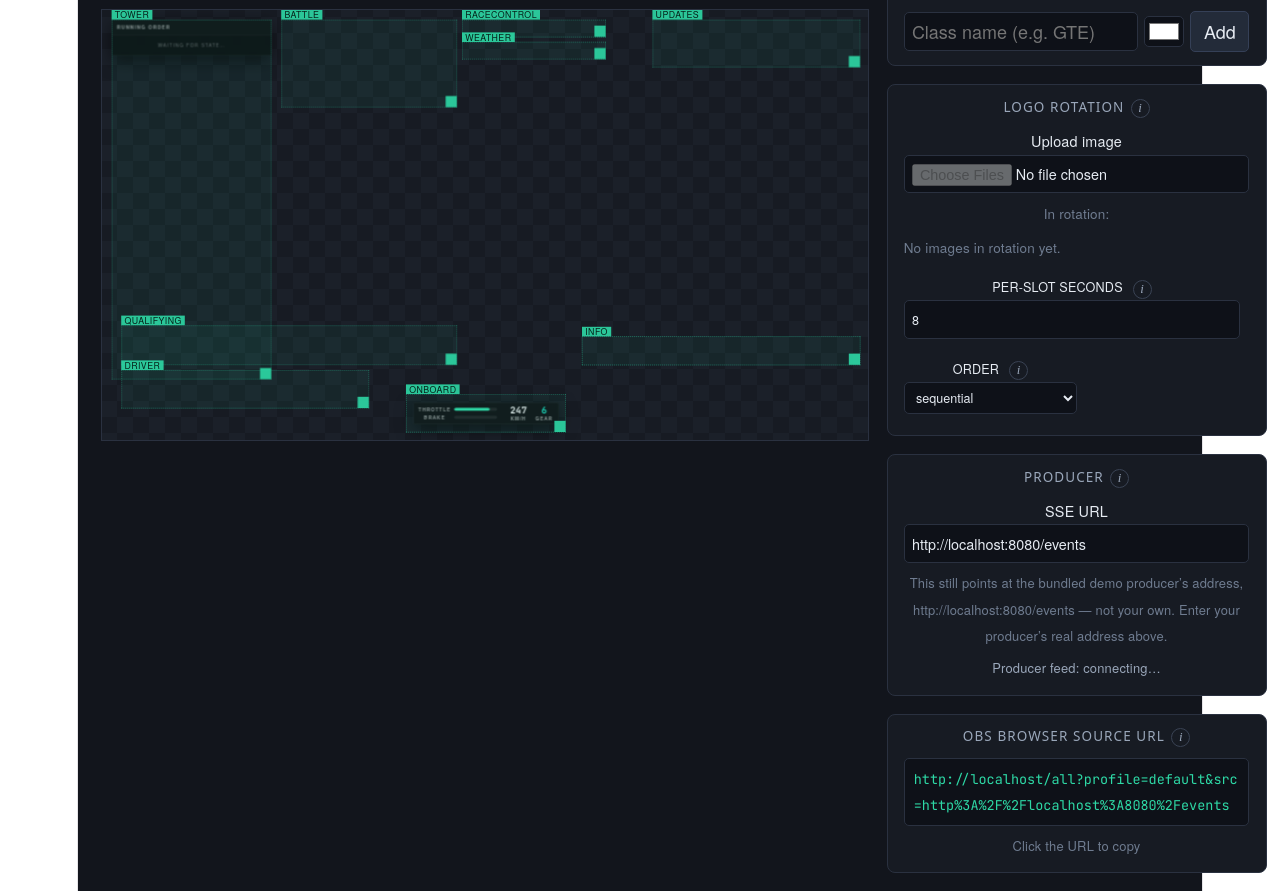
Test: ConfigPage editor wiring › copies the OBS URL to the clipboard on click
The image size is (1280, 891).
(page scrolled)
Click the button with test id "obs-url" at (1076, 779), box [904, 758, 1249, 826]
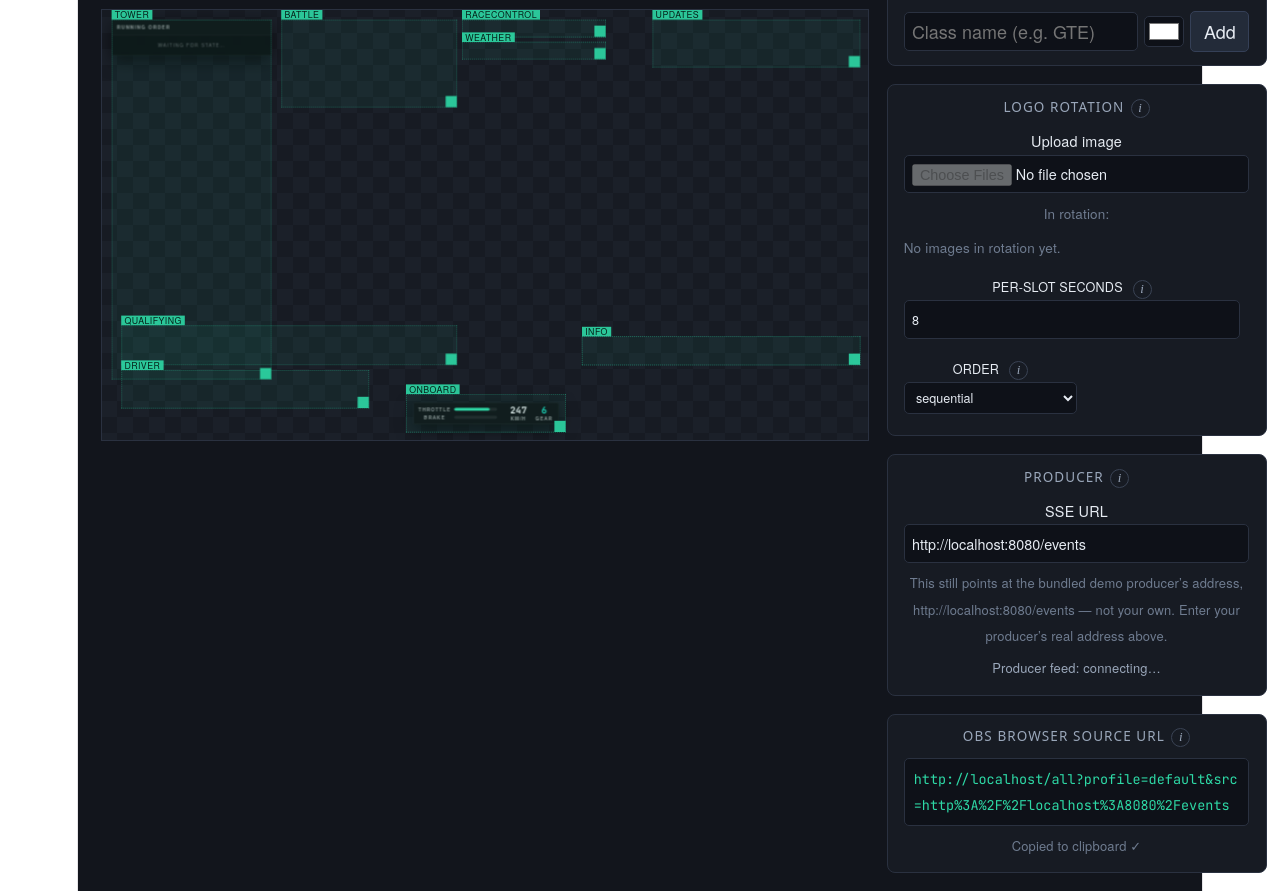
Now the text with test id "copy-hint" shows "Copied", box [1012, 836, 1141, 855]
